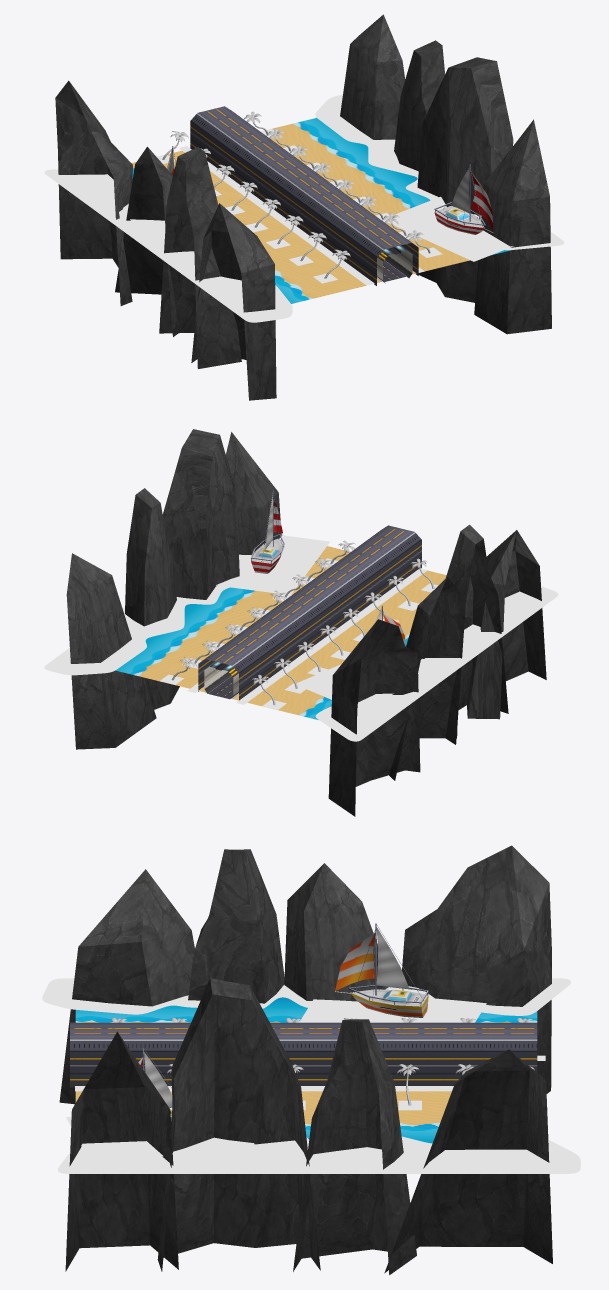
Rendered from Beach_11.fbx.
3 views of the same model, one above another, from view 1: azimuth 30°, elevation 25°; view 2: azimuth 150°, elevation 25°; view 3: azimuth 270°, elevation 25° (orthographic). The views are drawn at different scales.
Parts seen in each view (by area): view 1: Beach_11; view 2: Beach_11; view 3: Beach_11.
Boxes of the visible parts, x1,y1,x2,y2 form: Beach_11: (44,14,564,400); Beach_11: (44,429,558,816); Beach_11: (42,845,580,1275).
Bounding box in the file's own units: 22617 × 13384 × 25170.
